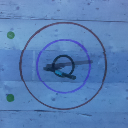Axe Tip: (50, 66, 62, 69)
